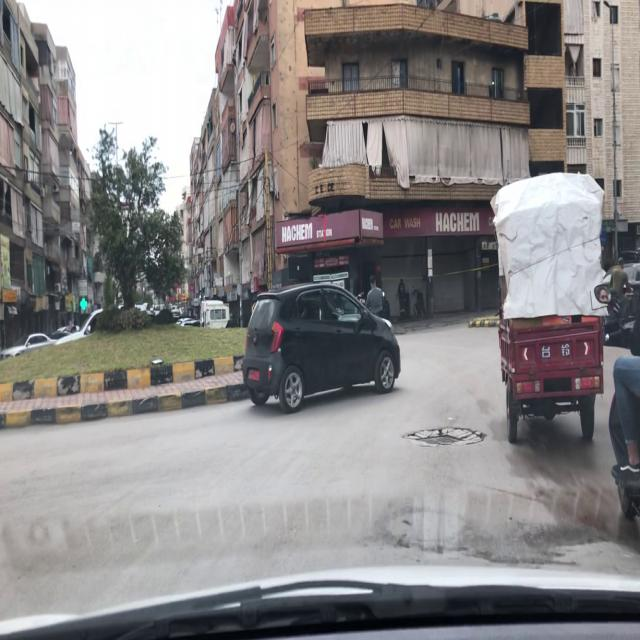Pothole: (406, 424, 488, 450)
